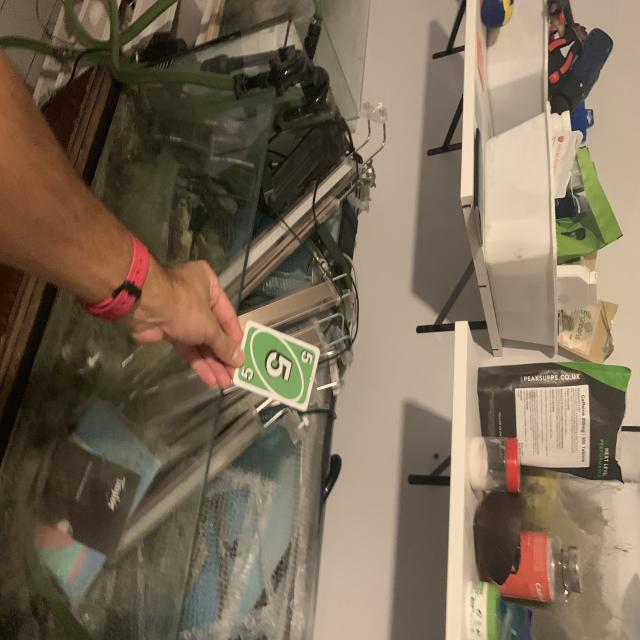lgreen-5: (296, 347, 314, 368)
